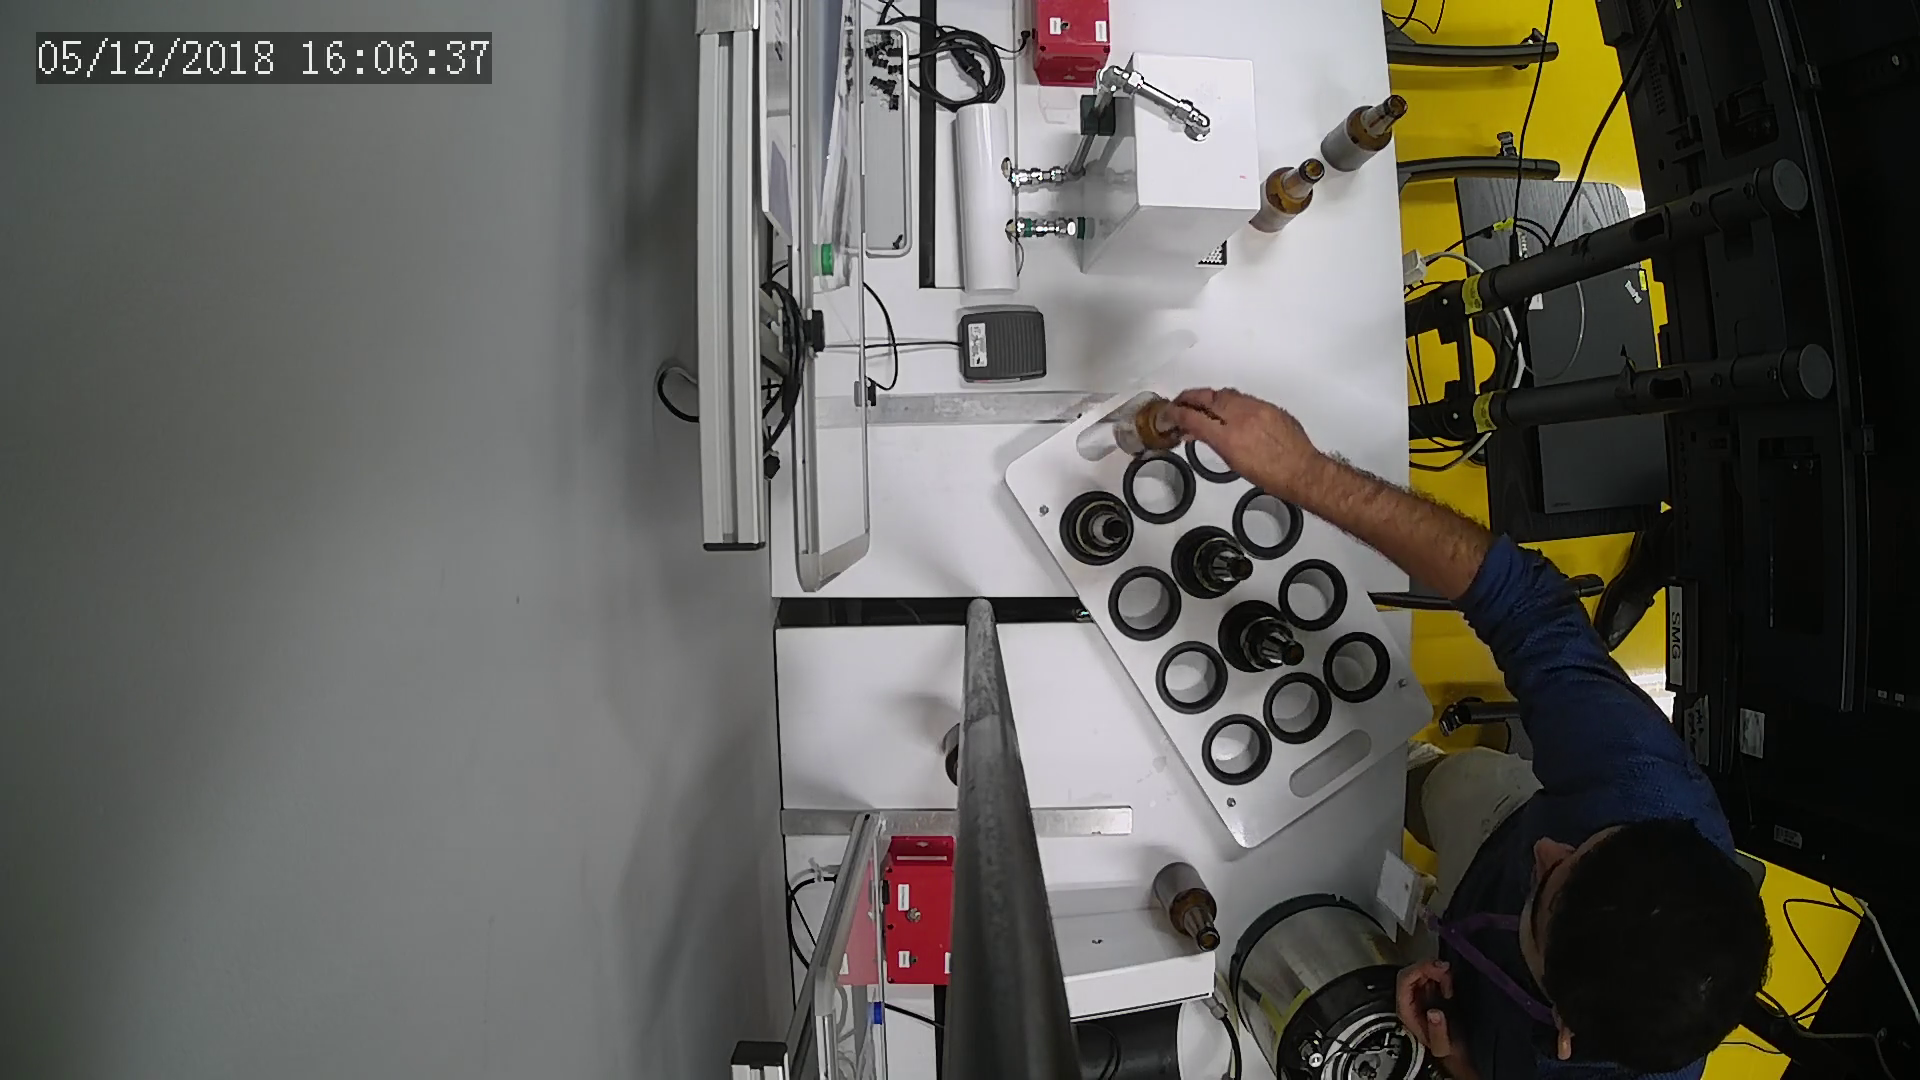filled_bottle: (1222, 603, 1309, 674), (1178, 526, 1254, 595), (1062, 493, 1133, 563)
trolley: (1001, 351, 1439, 851)
unfilled_bottle: (1323, 91, 1410, 174), (1154, 861, 1222, 955), (1251, 157, 1327, 236)
